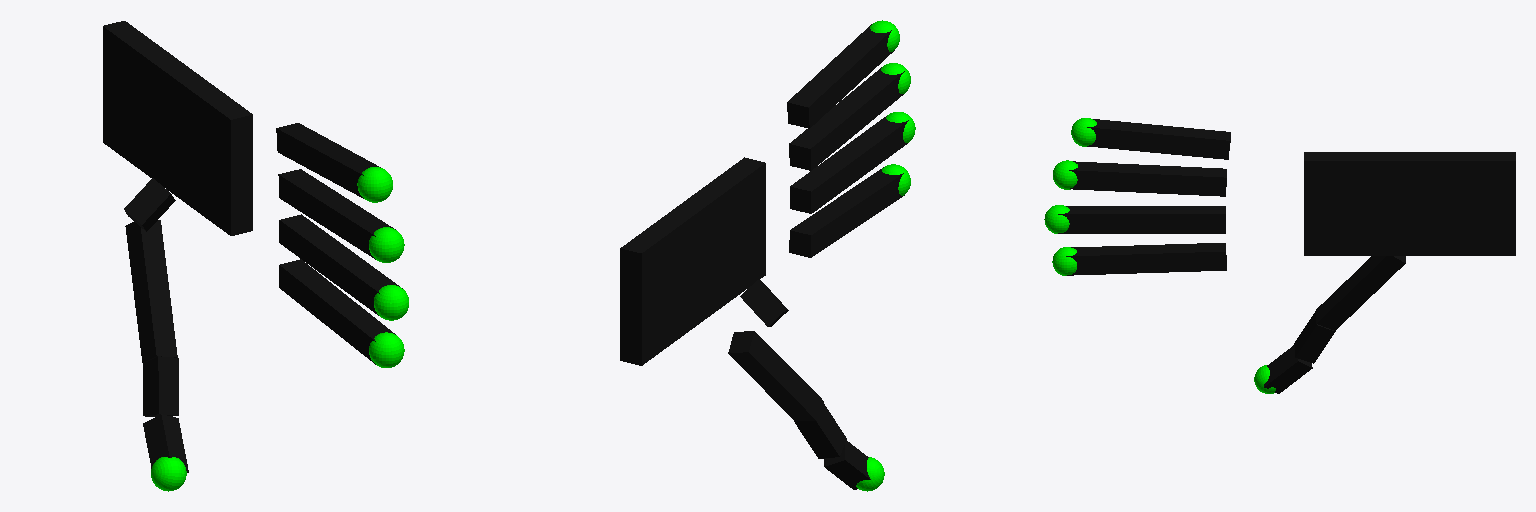
URDF robot description (h1_box):
<?xml version="1.0" ?>
<robot name="h1_box">
  <link name="R_hand_base_link">
    <inertial>
      <origin xyz="0 0 0" rpy="0 0 0"/>
      <mass value="0.14143"/>
      <inertia ixx="1.473229e-04" ixy="0.000000e+00" ixz="0.000000e+00" iyy="3.064317e-05" iyz="0.000000e+00" izz="1.190369e-04"/>
    </inertial>
    <visual>
      <origin xyz="-0.005000 -0.050000 0.000000" rpy="0.000000 0.000000 0.000000"/>
      <geometry>
        <box size="0.01 0.1 0.05"/>
      </geometry>
      <material name="">
        <color rgba="0.1 0.1 0.1 1"/>
      </material>
    </visual>
    <collision>
      <origin xyz="-0.005000 -0.050000 0.000000" rpy="0.000000 0.000000 0.000000"/>
      <geometry>
        <box size="0.01 0.1 0.05"/>
      </geometry>
    </collision>
  </link>
  <link name="R_thumb_proximal_base">
    <inertial>
      <origin xyz="0 0 0" rpy="0 0 0"/>
      <mass value="0.0018869"/>
      <inertia ixx="6.003683e-08" ixy="0.000000e+00" ixz="0.000000e+00" iyy="3.144833e-08" iyz="0.000000e+00" izz="6.003683e-08"/>
    </inertial>
    <visual>
      <origin xyz="0.000100 0.010900 -0.001400" rpy="0.000000 0.583600 3.821700"/>
      <geometry>
        <box size="0.01 0.016787272024066328 0.01"/>
      </geometry>
      <material name="">
        <color rgba="0.1 0.1 0.1 1"/>
      </material>
    </visual>
    <collision>
      <origin xyz="0.000100 0.010900 -0.001400" rpy="0.000000 0.583600 3.821700"/>
      <geometry>
        <box size="0.01 0.016787272024066328 0.01"/>
      </geometry>
    </collision>
  </link>
  <link name="R_thumb_proximal">
    <inertial>
      <origin xyz="0 0 0" rpy="0 0 0"/>
      <mass value="0.0066075"/>
      <inertia ixx="1.782216e-06" ixy="0.000000e+00" ixz="0.000000e+00" iyy="1.101250e-07" iyz="0.000000e+00" izz="1.782216e-06"/>
    </inertial>
    <visual>
      <origin xyz="0.025200 0.013300 -0.004900" rpy="0.000000 0.014300 2.235700"/>
      <geometry>
        <box size="0.01 0.056006380966814845 0.01"/>
      </geometry>
      <material name="">
        <color rgba="0.1 0.1 0.1 1"/>
      </material>
    </visual>
    <collision>
      <origin xyz="0.025200 0.013300 -0.004900" rpy="0.000000 0.014300 2.235700"/>
      <geometry>
        <box size="0.01 0.056006380966814845 0.01"/>
      </geometry>
    </collision>
  </link>
  <link name="R_thumb_intermediate">
    <inertial>
      <origin xyz="0 0 0" rpy="0 0 0"/>
      <mass value="0.0037847"/>
      <inertia ixx="1.938289e-07" ixy="0.000000e+00" ixz="0.000000e+00" iyy="6.307833e-08" iyz="0.000000e+00" izz="1.938289e-07"/>
    </inertial>
    <visual>
      <origin xyz="0.012500 0.000400 -0.004700" rpy="0.000000 0.052900 2.035700"/>
      <geometry>
        <box size="0.01 0.02268404373122217 0.01"/>
      </geometry>
      <material name="">
        <color rgba="0.1 0.1 0.1 1"/>
      </material>
    </visual>
    <collision>
      <origin xyz="0.012500 0.000400 -0.004700" rpy="0.000000 0.052900 2.035700"/>
      <geometry>
        <box size="0.01 0.02268404373122217 0.01"/>
      </geometry>
    </collision>
  </link>
  <link name="R_thumb_distal">
    <inertial>
      <origin xyz="0 0 0" rpy="0 0 0"/>
      <mass value="0.0033441"/>
      <inertia ixx="1.762956e-07" ixy="0.000000e+00" ixz="0.000000e+00" iyy="5.573500e-08" iyz="0.000000e+00" izz="1.762956e-07"/>
    </inertial>
    <visual>
      <origin xyz="0.012500 0.003700 -0.003500" rpy="0.000000 0.262600 2.346600"/>
      <geometry>
        <box size="0.01 0.023078574950895474 0.01"/>
      </geometry>
      <material name="">
        <color rgba="0.1 0.1 0.1 1"/>
      </material>
    </visual>
    <collision>
      <origin xyz="0.012500 0.003700 -0.003500" rpy="0.000000 0.262600 2.346600"/>
      <geometry>
        <box size="0.01 0.023078574950895474 0.01"/>
      </geometry>
    </collision>
  </link>
  <link name="R_thumb_tip">
    <visual>
      <origin xyz="0 0 0" rpy="0 0 0"/>
      <geometry>
        <sphere radius="0.007"/>
      </geometry>
      <material name="green">
        <color rgba="0 1 0 1"/>
      </material>
    </visual>
  </link>
  <link name="R_index_proximal">
    <inertial>
      <origin xyz="0 0 0" rpy="0 0 0"/>
      <mass value="0.0042403"/>
      <inertia ixx="4.005303e-07" ixy="0.000000e+00" ixz="0.000000e+00" iyy="7.067167e-08" iyz="0.000000e+00" izz="4.005303e-07"/>
    </inertial>
    <visual>
      <origin xyz="-0.005000 0.016100 -0.005000" rpy="0.000000 0.000000 0.000000"/>
      <geometry>
        <box size="0.01 0.03214803454972014 0.01"/>
      </geometry>
      <material name="">
        <color rgba="0.1 0.1 0.1 1"/>
      </material>
    </visual>
    <collision>
      <origin xyz="-0.005000 0.016100 -0.005000" rpy="0.000000 0.000000 0.000000"/>
      <geometry>
        <box size="0.01 0.03214803454972014 0.01"/>
      </geometry>
    </collision>
  </link>
  <link name="R_index_intermediate">
    <inertial>
      <origin xyz="0 0 0" rpy="0 0 0"/>
      <mass value="0.0045683"/>
      <inertia ixx="7.682803e-07" ixy="0.000000e+00" ixz="0.000000e+00" iyy="7.613833e-08" iyz="0.000000e+00" izz="7.682803e-07"/>
    </inertial>
    <visual>
      <origin xyz="-0.005000 0.021900 -0.005000" rpy="0.000000 0.000000 0.000000"/>
      <geometry>
        <box size="0.01 0.04379631116135011 0.01"/>
      </geometry>
      <material name="">
        <color rgba="0.1 0.1 0.1 1"/>
      </material>
    </visual>
    <collision>
      <origin xyz="-0.005000 0.021900 -0.005000" rpy="0.000000 0.000000 0.000000"/>
      <geometry>
        <box size="0.01 0.04379631116135011 0.01"/>
      </geometry>
    </collision>
  </link>
  <link name="R_index_tip">
    <visual>
      <origin xyz="0 0 0" rpy="0 0 0"/>
      <geometry>
        <sphere radius="0.007"/>
      </geometry>
      <material name="green">
        <color rgba="0 1 0 1"/>
      </material>
    </visual>
  </link>
  <link name="R_middle_proximal">
    <inertial>
      <origin xyz="0 0 0" rpy="0 0 0"/>
      <mass value="0.0042403"/>
      <inertia ixx="4.005303e-07" ixy="0.000000e+00" ixz="0.000000e+00" iyy="7.067167e-08" iyz="0.000000e+00" izz="4.005303e-07"/>
    </inertial>
    <visual>
      <origin xyz="-0.005000 0.016100 -0.005000" rpy="0.000000 0.000000 0.000000"/>
      <geometry>
        <box size="0.01 0.03214803454972014 0.01"/>
      </geometry>
      <material name="">
        <color rgba="0.1 0.1 0.1 1"/>
      </material>
    </visual>
    <collision>
      <origin xyz="-0.005000 0.016100 -0.005000" rpy="0.000000 0.000000 0.000000"/>
      <geometry>
        <box size="0.01 0.03214803454972014 0.01"/>
      </geometry>
    </collision>
  </link>
  <link name="R_middle_intermediate">
    <inertial>
      <origin xyz="0 0 0" rpy="0 0 0"/>
      <mass value="0.0050396"/>
      <inertia ixx="9.722444e-07" ixy="0.000000e+00" ixz="0.000000e+00" iyy="8.399333e-08" iyz="0.000000e+00" izz="9.722444e-07"/>
    </inertial>
    <visual>
      <origin xyz="-0.005000 0.023500 -0.005000" rpy="0.000000 0.000000 0.000000"/>
      <geometry>
        <box size="0.01 0.04706433173139187 0.01"/>
      </geometry>
      <material name="">
        <color rgba="0.1 0.1 0.1 1"/>
      </material>
    </visual>
    <collision>
      <origin xyz="-0.005000 0.023500 -0.005000" rpy="0.000000 0.000000 0.000000"/>
      <geometry>
        <box size="0.01 0.04706433173139187 0.01"/>
      </geometry>
    </collision>
  </link>
  <link name="R_middle_tip">
    <visual>
      <origin xyz="0 0 0" rpy="0 0 0"/>
      <geometry>
        <sphere radius="0.007"/>
      </geometry>
      <material name="green">
        <color rgba="0 1 0 1"/>
      </material>
    </visual>
  </link>
  <link name="R_ring_proximal">
    <inertial>
      <origin xyz="0 0 0" rpy="0 0 0"/>
      <mass value="0.0042403"/>
      <inertia ixx="4.005303e-07" ixy="0.000000e+00" ixz="0.000000e+00" iyy="7.067167e-08" iyz="0.000000e+00" izz="4.005303e-07"/>
    </inertial>
    <visual>
      <origin xyz="-0.005000 0.016100 -0.005000" rpy="0.000000 0.000000 0.000000"/>
      <geometry>
        <box size="0.01 0.03214803454972014 0.01"/>
      </geometry>
      <material name="">
        <color rgba="0.1 0.1 0.1 1"/>
      </material>
    </visual>
    <collision>
      <origin xyz="-0.005000 0.016100 -0.005000" rpy="0.000000 0.000000 0.000000"/>
      <geometry>
        <box size="0.01 0.03214803454972014 0.01"/>
      </geometry>
    </collision>
  </link>
  <link name="R_ring_intermediate">
    <inertial>
      <origin xyz="0 0 0" rpy="0 0 0"/>
      <mass value="0.0045683"/>
      <inertia ixx="7.682811e-07" ixy="0.000000e+00" ixz="0.000000e+00" iyy="7.613833e-08" iyz="0.000000e+00" izz="7.682811e-07"/>
    </inertial>
    <visual>
      <origin xyz="-0.005000 0.021900 -0.005000" rpy="0.000000 0.000000 0.000000"/>
      <geometry>
        <box size="0.01 0.04379633523392682 0.01"/>
      </geometry>
      <material name="">
        <color rgba="0.1 0.1 0.1 1"/>
      </material>
    </visual>
    <collision>
      <origin xyz="-0.005000 0.021900 -0.005000" rpy="0.000000 0.000000 0.000000"/>
      <geometry>
        <box size="0.01 0.04379633523392682 0.01"/>
      </geometry>
    </collision>
  </link>
  <link name="R_ring_tip">
    <visual>
      <origin xyz="0 0 0" rpy="0 0 0"/>
      <geometry>
        <sphere radius="0.007"/>
      </geometry>
      <material name="green">
        <color rgba="0 1 0 1"/>
      </material>
    </visual>
  </link>
  <link name="R_pinky_proximal">
    <inertial>
      <origin xyz="0 0 0" rpy="0 0 0"/>
      <mass value="0.0042403"/>
      <inertia ixx="4.005303e-07" ixy="0.000000e+00" ixz="0.000000e+00" iyy="7.067167e-08" iyz="0.000000e+00" izz="4.005303e-07"/>
    </inertial>
    <visual>
      <origin xyz="-0.005000 0.016100 -0.005000" rpy="0.000000 0.000000 0.000000"/>
      <geometry>
        <box size="0.01 0.03214803454972014 0.01"/>
      </geometry>
      <material name="">
        <color rgba="0.1 0.1 0.1 1"/>
      </material>
    </visual>
    <collision>
      <origin xyz="-0.005000 0.016100 -0.005000" rpy="0.000000 0.000000 0.000000"/>
      <geometry>
        <box size="0.01 0.03214803454972014 0.01"/>
      </geometry>
    </collision>
  </link>
  <link name="R_pinky_intermediate">
    <inertial>
      <origin xyz="0 0 0" rpy="0 0 0"/>
      <mass value="0.0035996"/>
      <inertia ixx="4.343419e-07" ixy="0.000000e+00" ixz="0.000000e+00" iyy="5.999333e-08" iyz="0.000000e+00" izz="4.343419e-07"/>
    </inertial>
    <visual>
      <origin xyz="-0.005000 0.018400 -0.005000" rpy="0.000000 0.000000 0.000000"/>
      <geometry>
        <box size="0.01 0.03671467408620836 0.01"/>
      </geometry>
      <material name="">
        <color rgba="0.1 0.1 0.1 1"/>
      </material>
    </visual>
    <collision>
      <origin xyz="-0.005000 0.018400 -0.005000" rpy="0.000000 0.000000 0.000000"/>
      <geometry>
        <box size="0.01 0.03671467408620836 0.01"/>
      </geometry>
    </collision>
  </link>
  <link name="R_pinky_tip">
    <visual>
      <origin xyz="0 0 0" rpy="0 0 0"/>
      <geometry>
        <sphere radius="0.007"/>
      </geometry>
      <material name="green">
        <color rgba="0 1 0 1"/>
      </material>
    </visual>
  </link>
  <joint name="R_thumb_proximal_yaw" type="revolute">
    <origin xyz="-0.016960 -0.069100 -0.020450" rpy="1.570800 -1.570800 0.000000"/>
    <parent link="R_hand_base_link"/>
    <child link="R_thumb_proximal_base"/>
    <axis xyz="0 0 -1"/>
    <limit lower="-0.1" upper="1.3" effort="1" velocity="0.5"/>
  </joint>
  <joint name="R_thumb_proximal_pitch" type="revolute">
    <origin xyz="-0.008810 0.010892 -0.009250" rpy="1.570800 0.000000 2.858700"/>
    <parent link="R_thumb_proximal_base"/>
    <child link="R_thumb_proximal"/>
    <axis xyz="0 0 1"/>
    <limit lower="0.0" upper="0.5" effort="1" velocity="0.5"/>
  </joint>
  <joint name="R_thumb_intermediate" type="revolute">
    <origin xyz="0.044070 0.034553 -0.000800" rpy="0.000000 0.000000 0.000000"/>
    <parent link="R_thumb_proximal"/>
    <child link="R_thumb_intermediate"/>
    <axis xyz="0 0 1"/>
    <limit lower="0" upper="0.8" effort="1" velocity="0.5"/>
    <mimic joint="R_thumb_proximal_pitch" multiplier="1.6" offset="0"/>
  </joint>
  <joint name="R_thumb_distal" type="revolute">
    <origin xyz="0.020248 0.010156 -0.001200" rpy="0.000000 0.000000 0.000000"/>
    <parent link="R_thumb_intermediate"/>
    <child link="R_thumb_distal"/>
    <axis xyz="0 0 1"/>
    <limit lower="0" upper="1.2" effort="1" velocity="0.5"/>
    <mimic joint="R_thumb_proximal_pitch" multiplier="2.4" offset="0"/>
  </joint>
  <joint name="R_thumb_tip_joint" type="fixed">
    <parent link="R_thumb_distal"/>
    <child link="R_thumb_tip"/>
    <origin xyz="0.020000 0.012000 -0.002000" rpy="0.000000 0.000000 0.000000"/>
  </joint>
  <joint name="R_index_proximal" type="revolute">
    <origin xyz="0.000285 -0.136530 -0.032268" rpy="-3.106700 0.000000 0.000000"/>
    <parent link="R_hand_base_link"/>
    <child link="R_index_proximal"/>
    <axis xyz="0 0 1"/>
    <limit lower="0" upper="1.7" effort="1" velocity="0.5"/>
  </joint>
  <joint name="R_index_intermediate" type="revolute">
    <origin xyz="0.000000 0.032026 0.000000" rpy="0.000000 0.000000 0.000000"/>
    <parent link="R_index_proximal"/>
    <child link="R_index_intermediate"/>
    <axis xyz="0 0 1"/>
    <limit lower="0" upper="1.7" effort="1" velocity="0.5"/>
    <mimic joint="R_index_proximal" multiplier="1" offset="0"/>
  </joint>
  <joint name="R_index_tip_joint" type="fixed">
    <parent link="R_index_intermediate"/>
    <child link="R_index_tip"/>
    <origin xyz="-0.005000 0.043313 -0.005000" rpy="0.000000 0.000000 0.000000"/>
  </joint>
  <joint name="R_middle_proximal" type="revolute">
    <origin xyz="0.000285 -0.137100 -0.012950" rpy="-3.141600 0.000000 0.000000"/>
    <parent link="R_hand_base_link"/>
    <child link="R_middle_proximal"/>
    <axis xyz="0 0 1"/>
    <limit lower="0" upper="1.7" effort="1" velocity="0.5"/>
  </joint>
  <joint name="R_middle_intermediate" type="revolute">
    <origin xyz="0.000000 0.032041 0.000000" rpy="0.000000 0.000000 0.000000"/>
    <parent link="R_middle_proximal"/>
    <child link="R_middle_intermediate"/>
    <axis xyz="0 0 1"/>
    <limit lower="0" upper="1.7" effort="1" velocity="0.5"/>
    <mimic joint="R_middle_proximal" multiplier="1" offset="0"/>
  </joint>
  <joint name="R_middle_tip_joint" type="fixed">
    <parent link="R_middle_intermediate"/>
    <child link="R_middle_tip"/>
    <origin xyz="-0.005000 0.046604 -0.005000" rpy="0.000000 0.000000 0.000000"/>
  </joint>
  <joint name="R_ring_proximal" type="revolute">
    <origin xyz="0.000285 -0.136910 0.006287" rpy="3.089200 0.000000 0.000000"/>
    <parent link="R_hand_base_link"/>
    <child link="R_ring_proximal"/>
    <axis xyz="0 0 1"/>
    <limit lower="0" upper="1.7" effort="1" velocity="0.5"/>
  </joint>
  <joint name="R_ring_intermediate" type="revolute">
    <origin xyz="0.000000 0.032041 0.000000" rpy="0.000000 0.000000 0.000000"/>
    <parent link="R_ring_proximal"/>
    <child link="R_ring_intermediate"/>
    <axis xyz="0 0 1"/>
    <limit lower="0" upper="1.7" effort="1" velocity="0.5"/>
    <mimic joint="R_ring_proximal" multiplier="1" offset="0"/>
  </joint>
  <joint name="R_ring_tip_joint" type="fixed">
    <parent link="R_ring_intermediate"/>
    <child link="R_ring_tip"/>
    <origin xyz="-0.005000 0.043354 -0.005000" rpy="0.000000 0.000000 0.000000"/>
  </joint>
  <joint name="R_pinky_proximal" type="revolute">
    <origin xyz="0.000285 -0.135710 0.025488" rpy="3.036900 0.000000 0.000000"/>
    <parent link="R_hand_base_link"/>
    <child link="R_pinky_proximal"/>
    <axis xyz="0 0 1"/>
    <limit lower="0" upper="1.7" effort="1" velocity="0.5"/>
  </joint>
  <joint name="R_pinky_intermediate" type="revolute">
    <origin xyz="0.000000 0.032041 0.000000" rpy="0.000000 0.000000 0.000000"/>
    <parent link="R_pinky_proximal"/>
    <child link="R_pinky_intermediate"/>
    <axis xyz="0 0 1"/>
    <limit lower="0" upper="1.7" effort="1" velocity="0.5"/>
    <mimic joint="R_pinky_proximal" multiplier="1" offset="0"/>
  </joint>
  <joint name="R_pinky_tip_joint" type="fixed">
    <parent link="R_pinky_intermediate"/>
    <child link="R_pinky_tip"/>
    <origin xyz="-0.005000 0.036278 -0.005000" rpy="0.000000 0.000000 0.000000"/>
  </joint>
</robot>

--- What the picture shows (computed from the rendered views, not written in the file) ---
The picture shows the robot from 3 angles, left to right: view 1: azimuth 30°, elevation 25°; view 2: azimuth 150°, elevation 25°; view 3: azimuth 270°, elevation 25°; orthographic projection.
Model h1_box with 18 links and 17 joints (12 revolute, 5 fixed), rooted at R_hand_base_link, posed every joint at zero.
Links seen in each view (by area): view 1: R_hand_base_link, R_thumb_proximal, R_middle_intermediate, R_index_intermediate, R_ring_intermediate, R_thumb_intermediate, R_index_proximal, R_middle_proximal, R_ring_proximal, R_pinky_proximal, R_pinky_intermediate, R_thumb_distal (+6 smaller); view 2: R_hand_base_link, R_thumb_proximal, R_pinky_proximal, R_middle_intermediate, R_ring_proximal, R_ring_intermediate, R_middle_proximal, R_index_proximal, R_index_intermediate, R_pinky_intermediate, R_thumb_intermediate, R_thumb_distal (+2 smaller); view 3: R_hand_base_link, R_thumb_proximal, R_middle_intermediate, R_index_intermediate, R_ring_intermediate, R_pinky_intermediate, R_index_proximal, R_pinky_proximal, R_ring_proximal, R_middle_proximal, R_thumb_distal, R_thumb_intermediate (+4 smaller).
Boxes of the visible links, x1=… form: R_hand_base_link: x1=103, y1=21, x2=252, y2=235; R_thumb_proximal: x1=125, y1=220, x2=177, y2=362; R_middle_intermediate: x1=320, y1=245, x2=402, y2=315; R_index_intermediate: x1=320, y1=292, x2=395, y2=364; R_ring_intermediate: x1=320, y1=195, x2=395, y2=259; R_thumb_intermediate: x1=143, y1=356, x2=178, y2=416; R_index_proximal: x1=279, y1=259, x2=341, y2=319; R_middle_proximal: x1=279, y1=214, x2=342, y2=272; R_ring_proximal: x1=278, y1=169, x2=340, y2=223; R_pinky_proximal: x1=276, y1=123, x2=338, y2=173; R_pinky_intermediate: x1=317, y1=145, x2=380, y2=198; R_thumb_distal: x1=143, y1=414, x2=188, y2=472; R_hand_base_link: x1=620, y1=157, x2=765, y2=365; R_thumb_proximal: x1=728, y1=331, x2=823, y2=421; R_pinky_proximal: x1=787, y1=66, x2=848, y2=128; R_middle_intermediate: x1=830, y1=116, x2=908, y2=184; R_ring_proximal: x1=789, y1=111, x2=850, y2=170; R_ring_intermediate: x1=830, y1=67, x2=904, y2=137; R_middle_proximal: x1=790, y1=158, x2=850, y2=213; R_index_proximal: x1=789, y1=204, x2=850, y2=257; R_index_intermediate: x1=830, y1=167, x2=904, y2=230; R_pinky_intermediate: x1=827, y1=24, x2=894, y2=91; R_thumb_intermediate: x1=794, y1=403, x2=846, y2=458; R_thumb_distal: x1=824, y1=440, x2=870, y2=489; R_hand_base_link: x1=1304, y1=152, x2=1515, y2=255; R_thumb_proximal: x1=1316, y1=256, x2=1405, y2=330; R_middle_intermediate: x1=1058, y1=206, x2=1157, y2=233; R_index_intermediate: x1=1066, y1=245, x2=1158, y2=275; R_ring_intermediate: x1=1069, y1=161, x2=1158, y2=193; R_pinky_intermediate: x1=1087, y1=119, x2=1162, y2=152; R_index_proximal: x1=1158, y1=243, x2=1226, y2=272; R_pinky_proximal: x1=1161, y1=126, x2=1230, y2=159; R_ring_proximal: x1=1158, y1=165, x2=1226, y2=196; R_middle_proximal: x1=1158, y1=206, x2=1225, y2=233; R_thumb_distal: x1=1264, y1=345, x2=1312, y2=393; R_thumb_intermediate: x1=1294, y1=311, x2=1335, y2=363.
Bounding box of the posed robot: 0.0568 × 0.2227 × 0.1629 m (x, y, z).
Geometry: primitives only (box / cylinder / sphere), no mesh files.